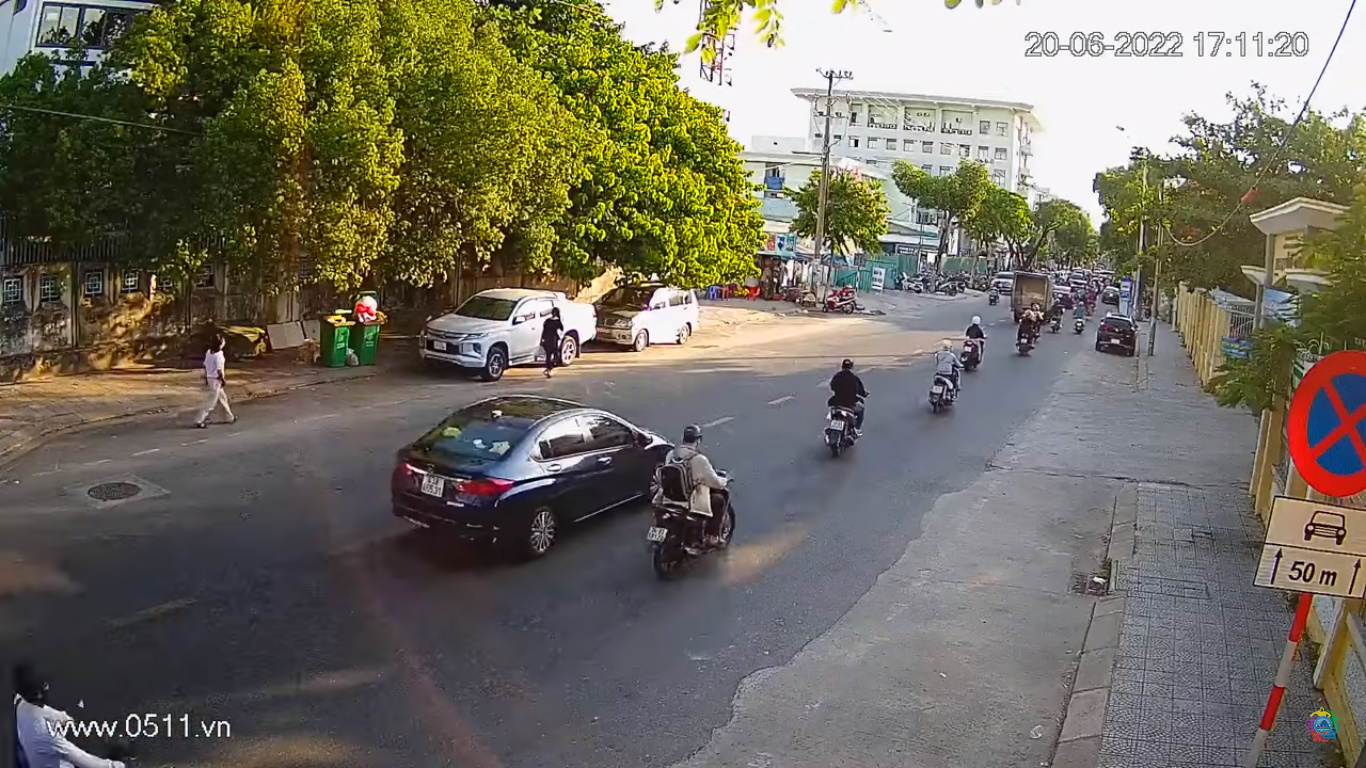car: (390, 394, 676, 556)
